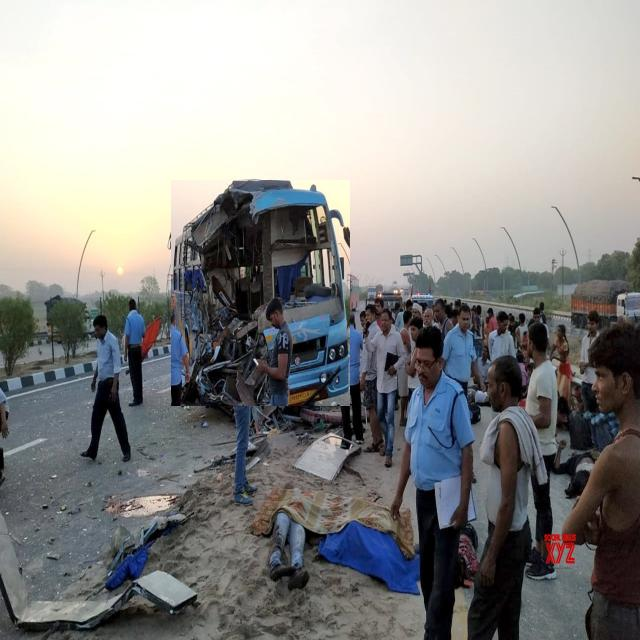accident: (171, 181, 350, 406)
truck: (571, 280, 640, 327)
